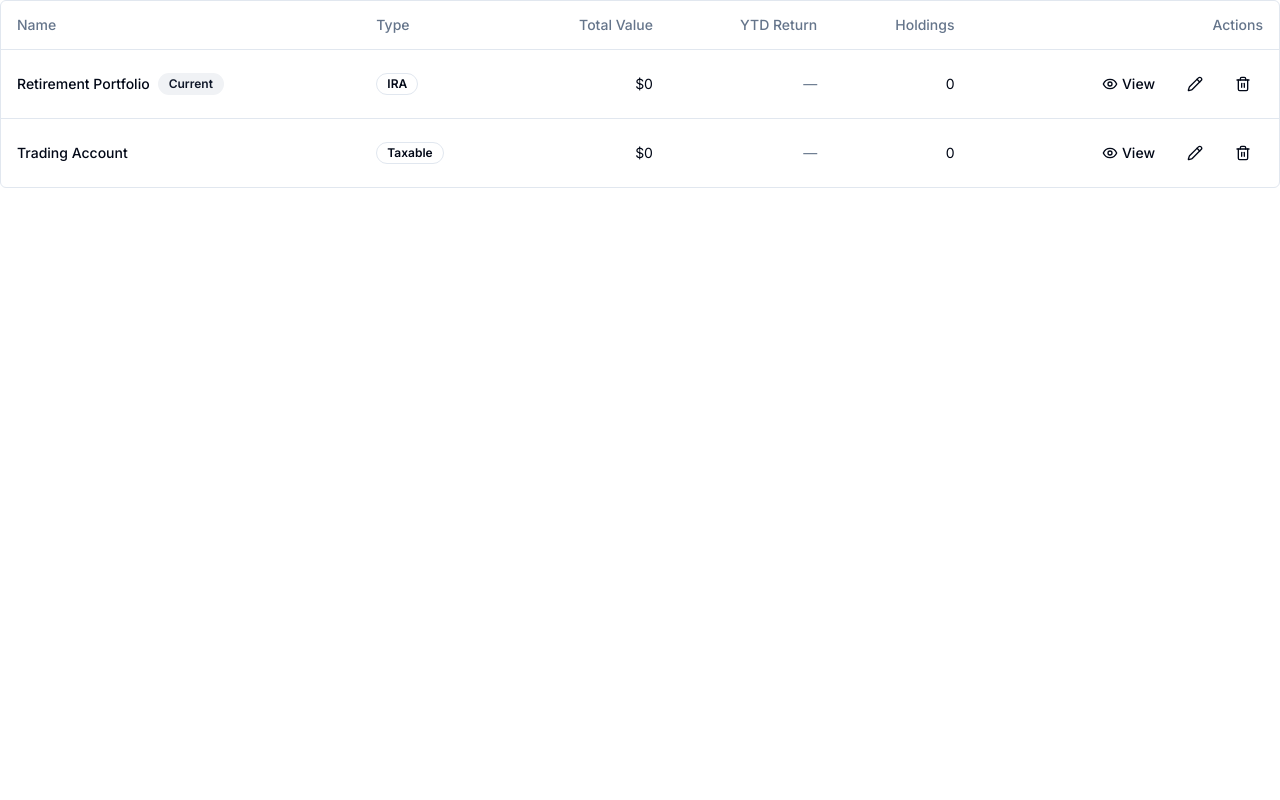
it: PortfoliosTable - Edit Functionality › should open edit dialog when Edit button is clicked
The width and height of the screenshot is (1280, 800).
Check: the text "Retirement Portfolio" is shown, box [17, 74, 150, 92]
// Click first Edit button
Click the button named "Edit" in the row of "Retirement Portfolio": (1195, 84) [1175, 66, 1215, 102]
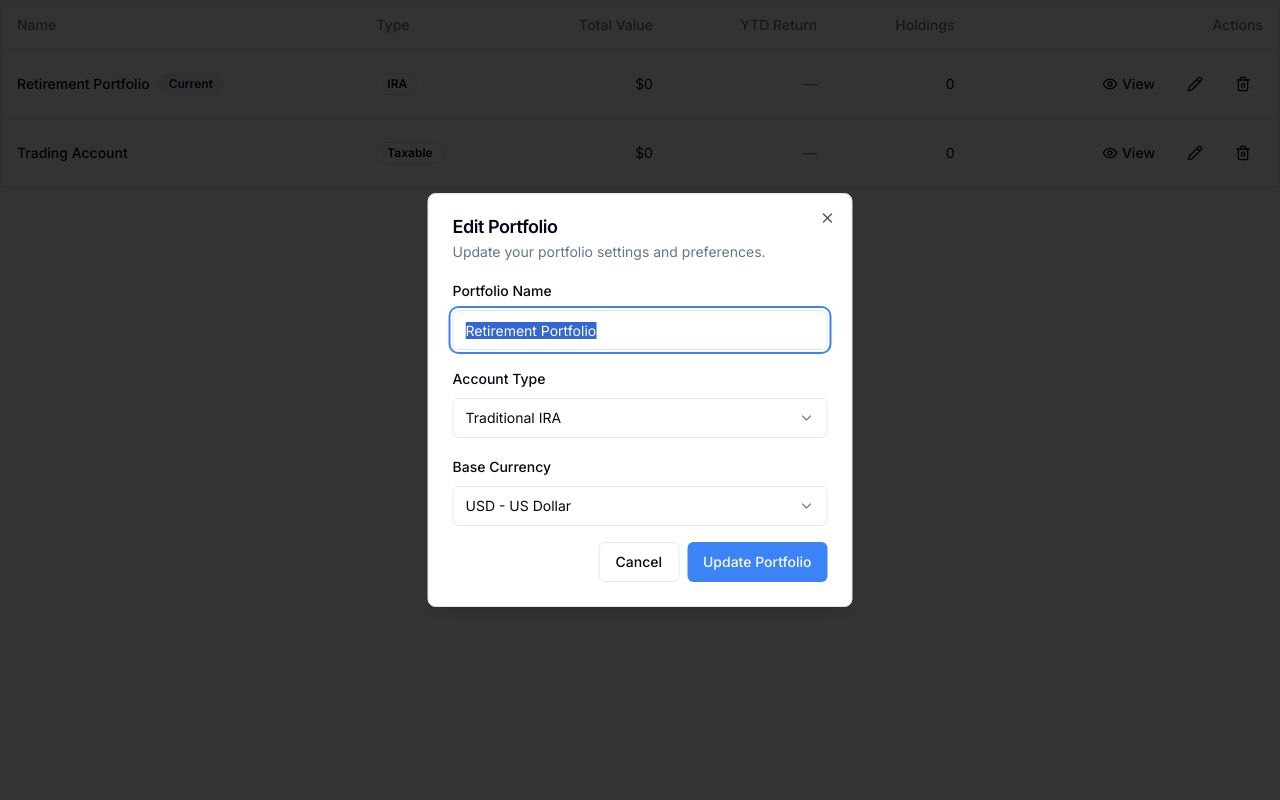
Check: the heading "Edit Portfolio" is shown, box [452, 216, 558, 237]
Check: the field showing "Retirement Portfolio" is shown, box [452, 310, 828, 350]
